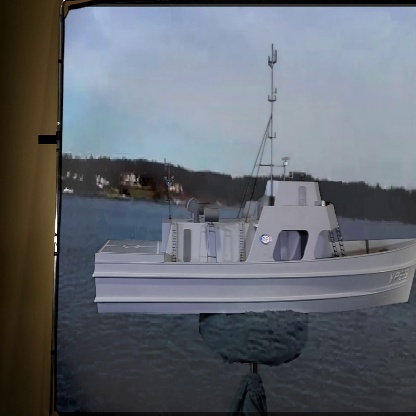YP689: (91, 43, 416, 316)
